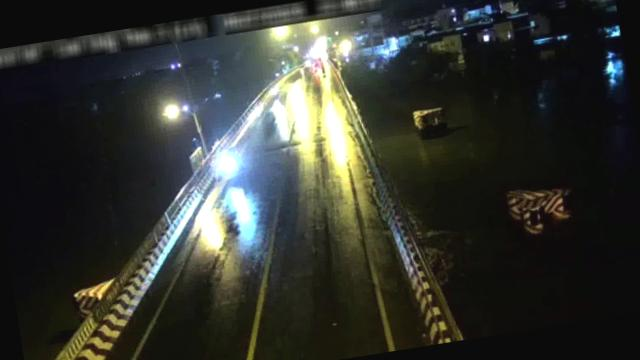Bike: (208, 147, 245, 182)
